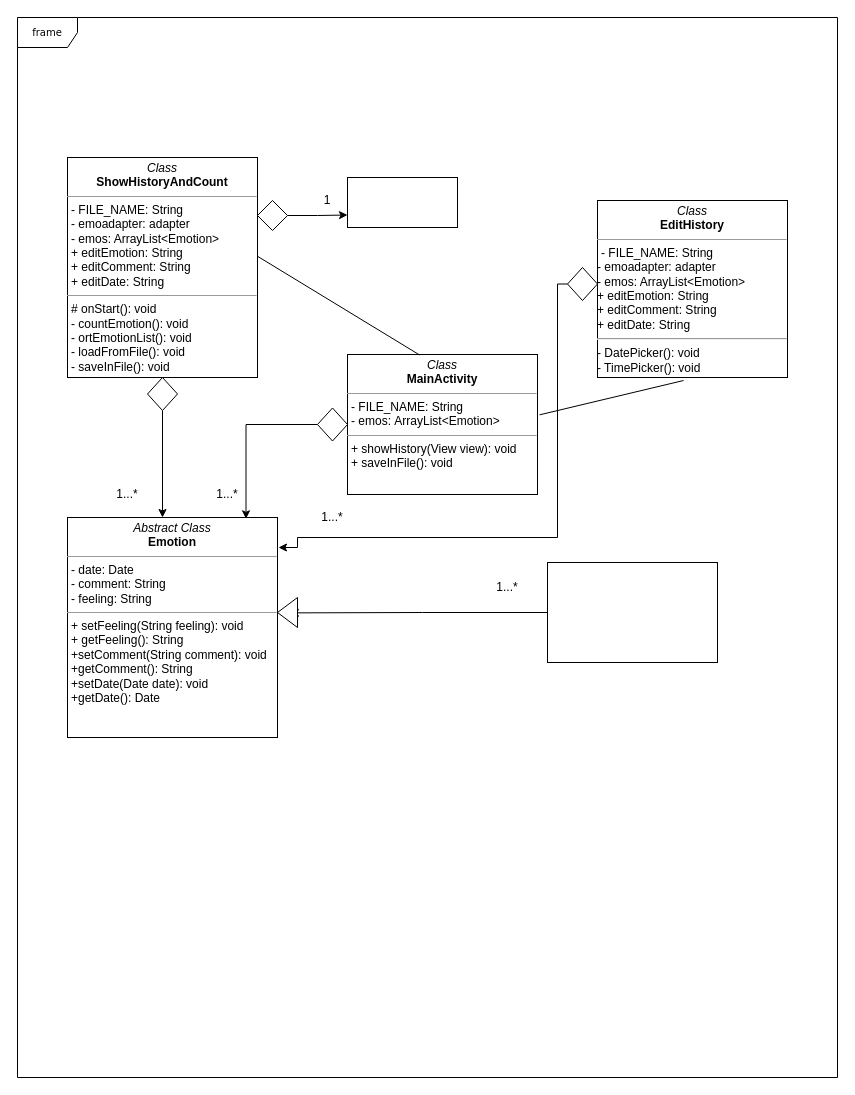
This 855x1095 diagram has some shape labels left out. Each missing label, with the centre of its shape:
"Subclass ImportantEmotion" belongs at [632,612].
"«interface» Comparator" belongs at [402,202].
